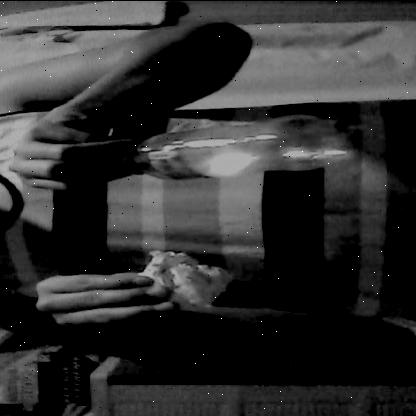Plastic Bottle: (94, 107, 367, 192)
